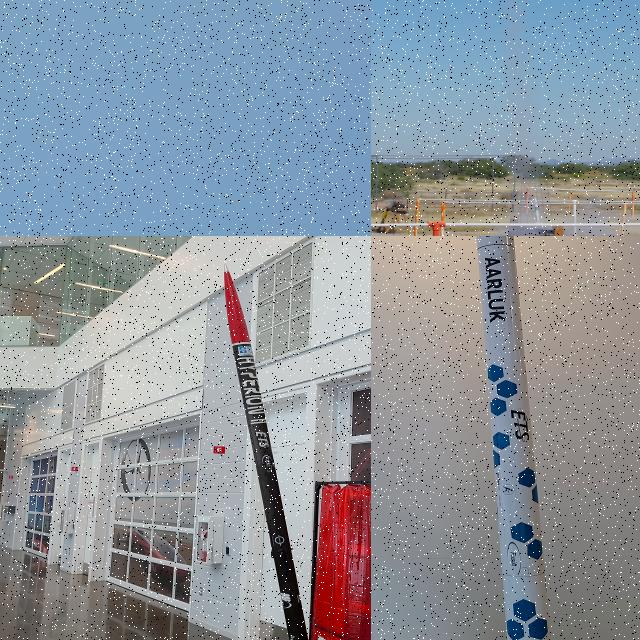Rocket: (224, 263, 309, 640), (476, 236, 552, 640), (533, 197, 543, 226)
